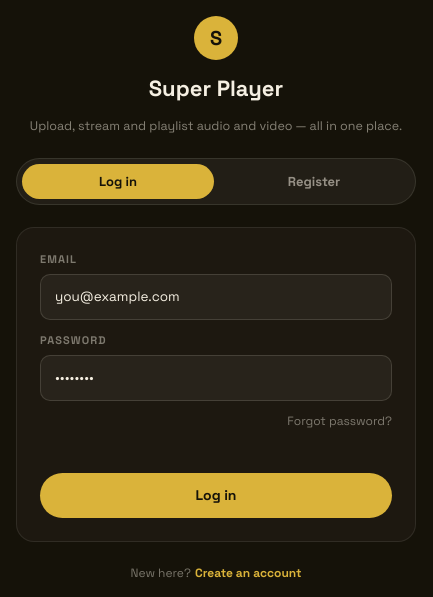
Test: AuthPage › switches to register mode via the tabs, swapping the form
This screenshot has width=433, height=597.
Click the tab "Register" at (314, 182), box [218,164,410,199]
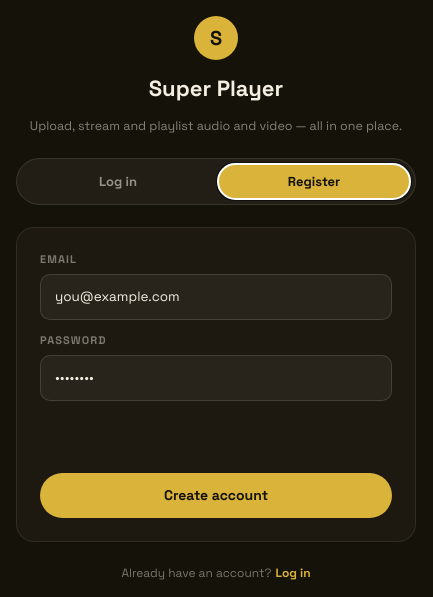
Expected: the button "Create account" is shown, [40,473,392,518]
